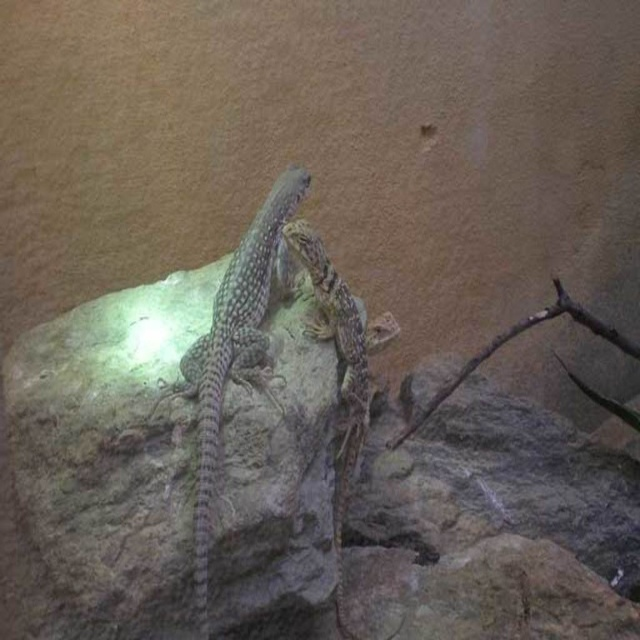Lizard: (159, 168, 312, 639)
